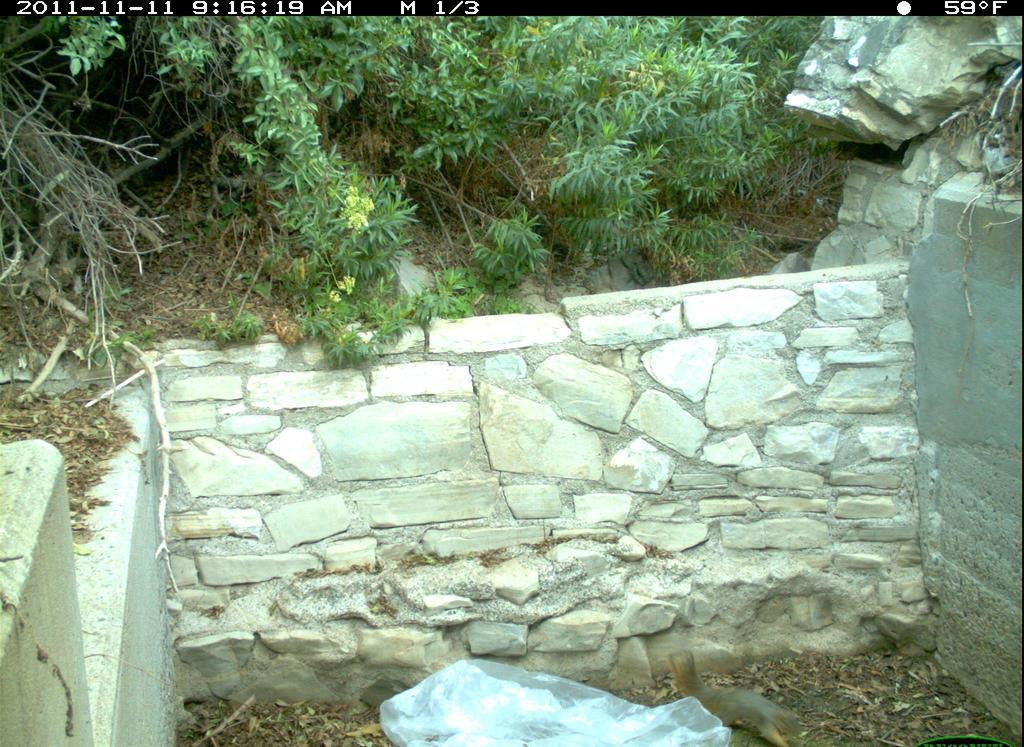squirrel: (674, 647, 807, 747)
